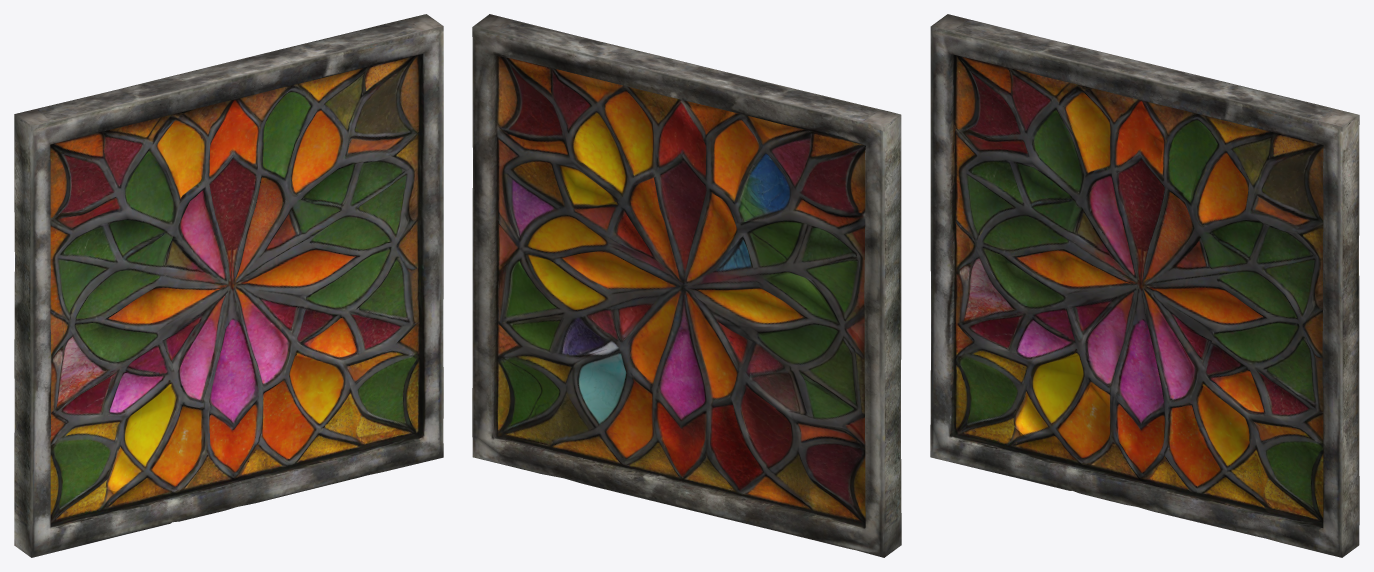
File: testTile4.glb
3 views of the same model, side by side, from view 1: azimuth 30°, elevation 25°; view 2: azimuth 150°, elevation 25°; view 3: azimuth 330°, elevation 25° (orthographic).
Visible parts, largest first — view 1: Mesh_0; view 2: Mesh_0; view 3: Mesh_0.
Part boxes in pixels (x1,y1,x2,y2): Mesh_0: (14, 14, 443, 557); Mesh_0: (472, 14, 901, 557); Mesh_0: (930, 14, 1359, 557).
Size of the model in its own units: 1 by 1 by 0.073.
1 material, 1 textured.
